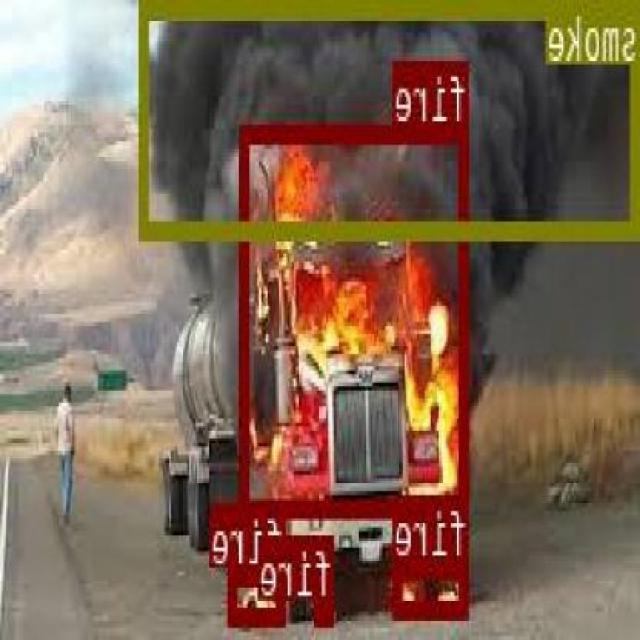Fire: (264, 121, 468, 512)
Smoke: (162, 0, 640, 307)
